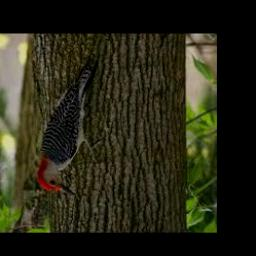Woodpecker: (37, 64, 102, 197)
